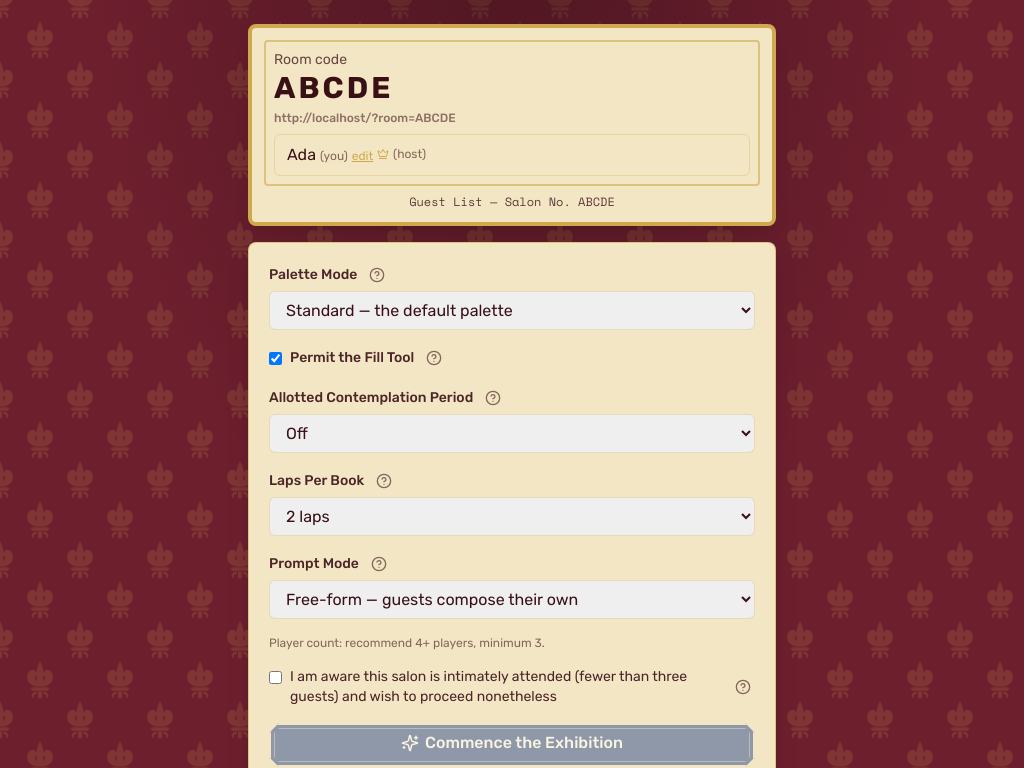
it: Lobby room-code copy affordances › right-click opens a context menu with a "copy join link" action, without copying the bare code
Right-click the text with test id "room-code": (334, 88) [274,70,393,106]
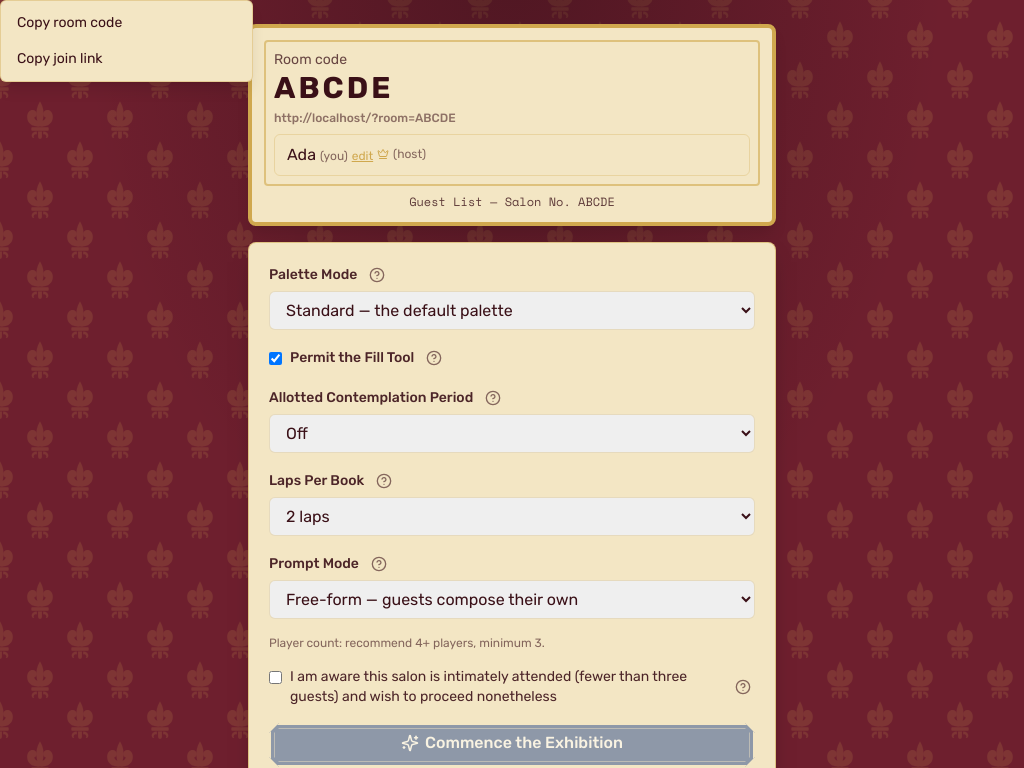
Check: the button "Copy join link" is shown, box [5,41,248,77]
